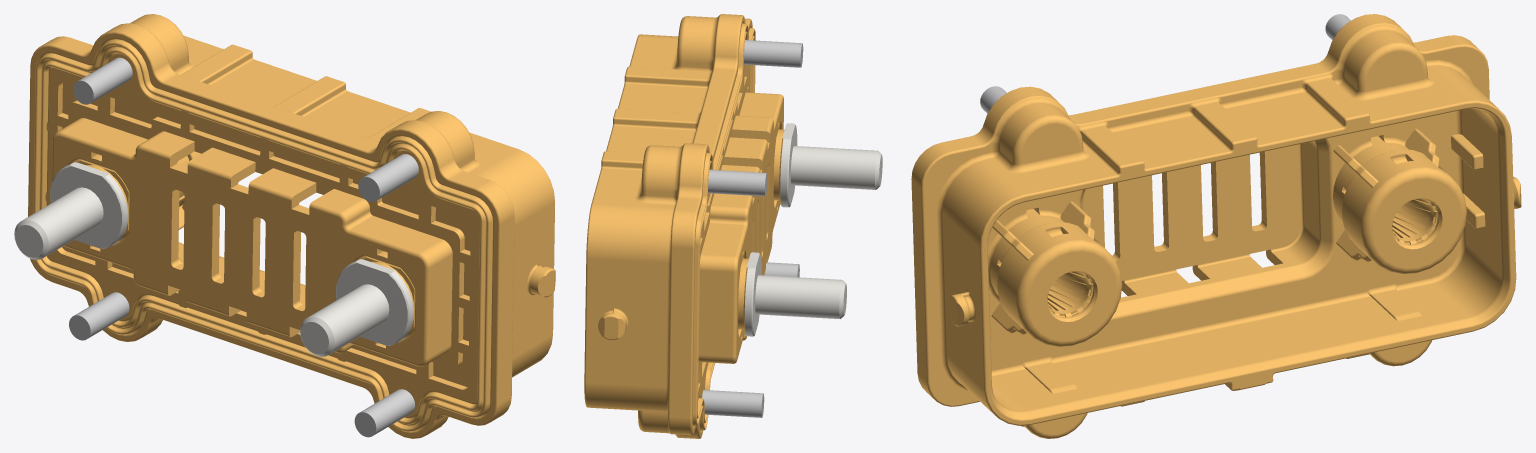
The model's file is DLQ2-Z.glb.
The picture shows the model from 3 angles, left to right: view 1: azimuth 30°, elevation 25°; view 2: azimuth 150°, elevation 25°; view 3: azimuth 270°, elevation 25°; orthographic projection. The views are drawn at different scales.
Visible parts, largest first — view 1: DLQ2-Z G001 v11; view 2: DLQ2-Z G001 v11; view 3: DLQ2-Z G001 v11.
Boxes of the visible parts, <box> form: DLQ2-Z G001 v11: <box>14,14,555,438</box>; DLQ2-Z G001 v11: <box>584,14,882,438</box>; DLQ2-Z G001 v11: <box>911,14,1521,438</box>.
Bounding box in the file's own units: 10.03 × 8.06 × 13.12.
